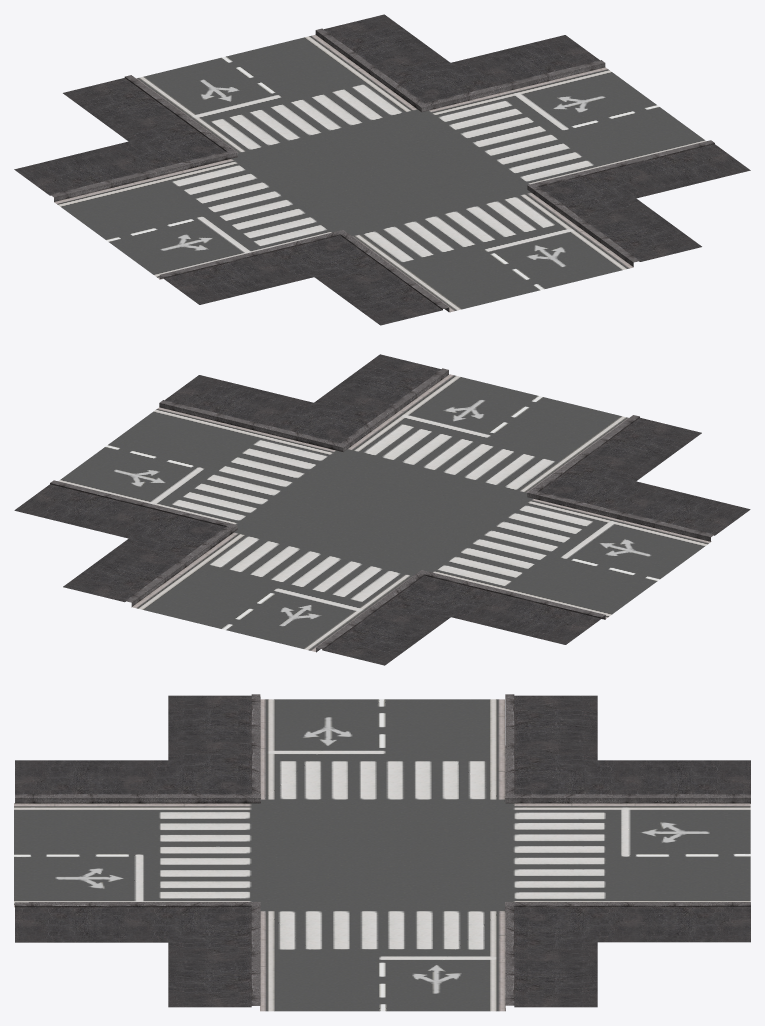
Rendered from 2 lines cross intersection.FBX.
3 renders of one model, top to bottom at view 1: azimuth 30°, elevation 25°; view 2: azimuth 150°, elevation 25°; view 3: azimuth 270°, elevation 25°, orthographic. The views are drawn at different scales.
Visible parts, largest first — view 1: Object004; view 2: Object004; view 3: Object004.
Part boxes in pixels (bbox=[...]): Object004: bbox=[14, 14, 750, 325]; Object004: bbox=[14, 354, 750, 665]; Object004: bbox=[14, 694, 750, 1011].
Size of the model in its own units: 36 by 0.3187 by 35.96.
